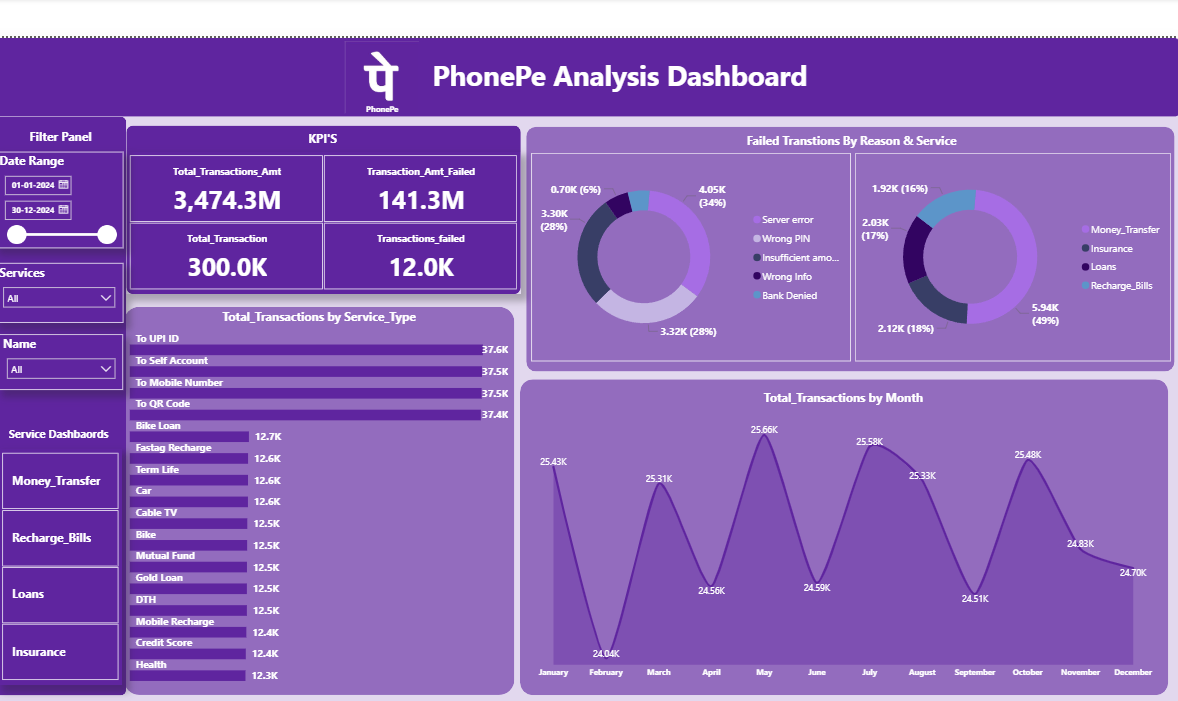

The dashboard page shown, as its layout file describes it:
{"tool":"powerbi","page":{"name":"Home","canvas":[1600,900],"ordinal":0},"visuals":[{"type":"image","box":[468.9,0,109.8,106.3],"z":0,"group":"g1"},{"type":"shape","box":[0,106.5,177.4,390.4],"z":0},{"type":"slicer","title":"Date Range","fields":{"Values":["Calender.Date"]},"box":[0,154.4,173.2,130.4],"z":0,"group":"g4"},{"type":"textbox","box":[570.3,20.6,550.6,75.5],"z":1000,"group":"g1"},{"type":"slicer","title":"Services","fields":{"Values":["All_Transactions.Service"]},"box":[0,305.3,173.2,80.6],"z":1000,"group":"g4"},{"type":"slicer","title":"Name","fields":{"Values":["All_Users.Name"]},"box":[4.6,400.5,168.1,74.9],"z":1000,"group":"g5"},{"type":"shape","box":[710.1,461.4,876.5,427.1],"z":1000},{"type":"shape","box":[0,0,1600.3,106.3],"z":2000},{"type":"shape","box":[176.7,118.4,533.4,228.1],"z":3000},{"type":"group","id":"g1","title":"Group 1","box":[468.9,0,652,106.3],"z":4000},{"type":"shape","box":[717.5,120.5,876.5,331],"z":4500,"group":"g2"},{"type":"card","fields":{"Values":["All_Transactions.Measure"]},"box":[480.3,82.3,87.5,24],"z":5000},{"type":"donutChart","title":"Total_Transaction_Failed by Reason","fields":{"Category":["All_Transactions.Reason"],"Y":["All_Transactions.Total_Transaction"]},"box":[724.4,156.5,432.2,281.3],"z":5000,"group":"g2"},{"type":"group","id":"g2","title":"Group 2","box":[717.5,120.5,876.5,331],"z":6000,"group":"g3"},{"type":"donutChart","title":"Total_Transaction_Failed by Service","fields":{"Y":["All_Transactions.Total_Transaction"],"Category":["All_Transactions.Service"]},"box":[1161.8,156.5,427.1,281.3],"z":6000,"group":"g2"},{"type":"areaChart","title":"Total_Transactions by Month","fields":{"Category":["Calender.Date.Variation.Date Hierarchy.Month"],"Y":["All_Transactions.Total_Transaction"]},"box":[722.1,475.1,850.8,399.7],"z":6000},{"type":"card","fields":{"Values":["All_Transactions.Failed"]},"box":[990.2,125.7,335.9,32.1],"z":7000,"group":"g3"},{"type":"cardVisual","fields":{"Data":["All_Transactions.Total_Trans_Amt","All_Transactions.Total_trans_Amt_failed","All_Transactions.Total_Transaction","All_Transactions.Total_transactions_failed"]},"box":[176.7,154.4,533.4,192.1],"z":7000},{"type":"group","id":"g3","title":"Group 3","box":[717.5,120.5,876.5,331],"z":8000},{"type":"shape","box":[173.2,363.6,528.3,524.9],"z":9000},{"type":"clusteredBarChart","title":"Total_Transactions by Service_Type","fields":{"Category":["All_Transactions.Service_Type"],"Y":["All_Transactions.Column Chart","All_Transactions.Total_Transaction"]},"box":[176.7,365.4,521.4,509.4],"z":10000},{"type":"card","fields":{"Values":["All_Transactions.Filter Pannel"]},"box":[0,118.3,177.4,35.5],"z":11000},{"type":"group","id":"g4","title":"Group 4","box":[0,154.4,172.7,232.3],"z":12000,"group":"g5"},{"type":"shape","box":[0,486.1,177.3,402],"z":12000},{"type":"card","fields":{"Values":["All_Transactions.Kpi"]},"box":[245.3,120.1,396.2,36],"z":13000},{"type":"group","id":"g5","title":"Group 5","box":[0,154.4,172.7,321],"z":14000},{"type":"card","fields":{"Values":["All_Transactions.Services_Dashboard"]},"box":[0,518.3,172.2,37.1],"z":15000},{"type":"cardVisual","fields":{"Data":["All_Transactions.Money_Transfer","All_Transactions.Recharge_Bills","All_Transactions.Loans","All_Transactions.Insurance"]},"box":[5.1,555.4,167.1,319.1],"z":16000},{"type":"actionButton","box":[5.1,555.4,167.1,70.9],"z":17000},{"type":"actionButton","box":[0,644.9,167.1,70.9],"z":18000},{"type":"actionButton","box":[20.3,715.8,123.2,70.9],"z":19000},{"type":"actionButton","box":[20.3,803.5,123.2,54],"z":20000}]}

Visuals, with their boxes on the page's 1600x900 design canvas (x1, y1, x2, y2). These are canvas units, not pixel positions in the 1178x701 screenshot, which may show the page scaled, cropped or inside an application window:
image: (left=469, top=0, right=579, bottom=106)
shape: (left=0, top=106, right=177, bottom=497)
"Date Range" slicer: (left=0, top=154, right=173, bottom=285)
textbox: (left=570, top=21, right=1121, bottom=96)
"Services" slicer: (left=0, top=305, right=173, bottom=386)
"Name" slicer: (left=5, top=400, right=173, bottom=475)
shape: (left=710, top=461, right=1587, bottom=888)
shape: (left=0, top=0, right=1600, bottom=106)
shape: (left=177, top=118, right=710, bottom=346)
"Group 1" group: (left=469, top=0, right=1121, bottom=106)
shape: (left=718, top=120, right=1594, bottom=452)
card - All_Transactions.Measure: (left=480, top=82, right=568, bottom=106)
"Total_Transaction_Failed by Reason" donutChart: (left=724, top=156, right=1157, bottom=438)
"Group 2" group: (left=718, top=120, right=1594, bottom=452)
"Total_Transaction_Failed by Service" donutChart: (left=1162, top=156, right=1589, bottom=438)
"Total_Transactions by Month" areaChart: (left=722, top=475, right=1573, bottom=875)
card - All_Transactions.Failed: (left=990, top=126, right=1326, bottom=158)
cardVisual - All_Transactions.Total_Trans_Amt x All_Transactions.Total_trans_Amt_failed: (left=177, top=154, right=710, bottom=346)
"Group 3" group: (left=718, top=120, right=1594, bottom=452)
shape: (left=173, top=364, right=702, bottom=888)
"Total_Transactions by Service_Type" clusteredBarChart: (left=177, top=365, right=698, bottom=875)
card - All_Transactions.Filter Pannel: (left=0, top=118, right=177, bottom=154)
"Group 4" group: (left=0, top=154, right=173, bottom=387)
shape: (left=0, top=486, right=177, bottom=888)
card - All_Transactions.Kpi: (left=245, top=120, right=642, bottom=156)
"Group 5" group: (left=0, top=154, right=173, bottom=475)
card - All_Transactions.Services_Dashboard: (left=0, top=518, right=172, bottom=555)
cardVisual - All_Transactions.Money_Transfer x All_Transactions.Recharge_Bills: (left=5, top=555, right=172, bottom=874)
actionButton: (left=5, top=555, right=172, bottom=626)
actionButton: (left=0, top=645, right=167, bottom=716)
actionButton: (left=20, top=716, right=144, bottom=787)
actionButton: (left=20, top=804, right=144, bottom=858)
